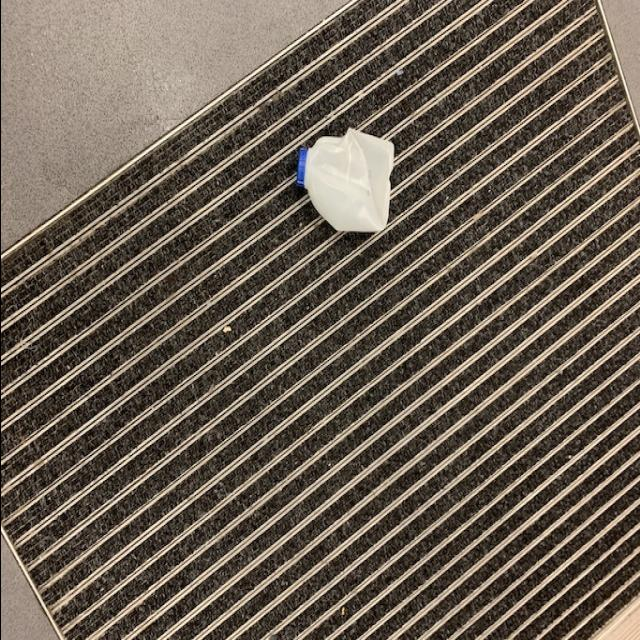HDPEM: (288, 130, 396, 238)
